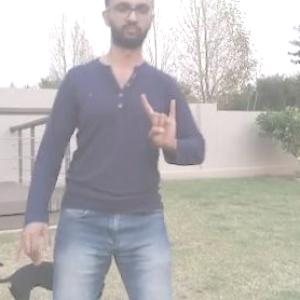takeoff-hand: (142, 87, 184, 150)
